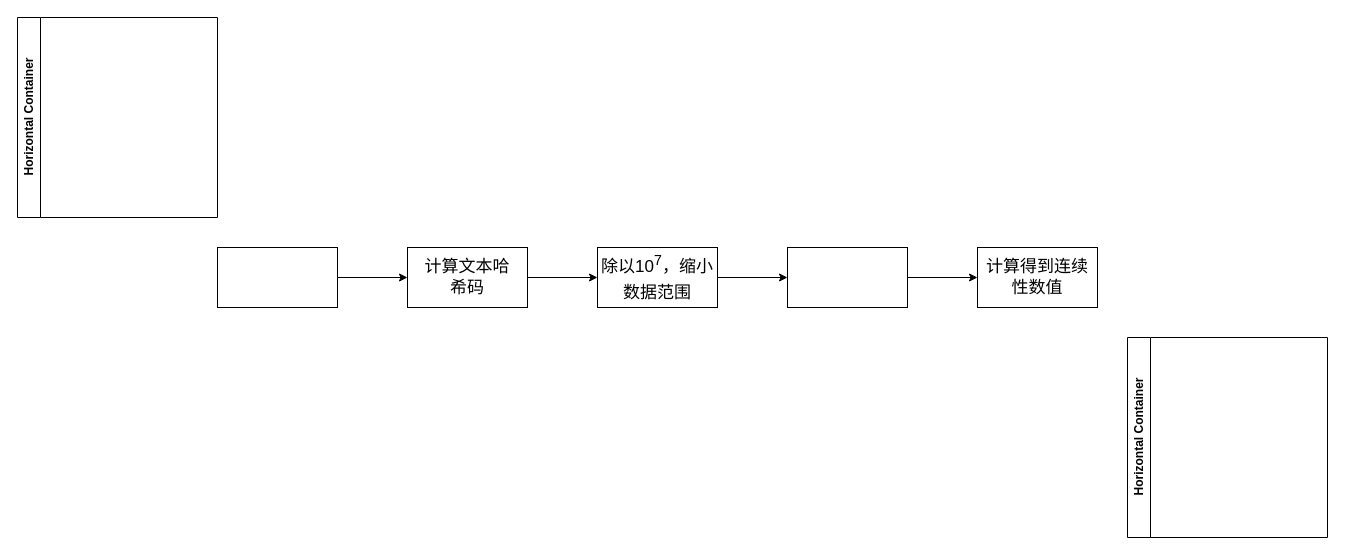
This 1345x555 diagram has some shape labels left out. Here are the shapes that lost their labels. From the top down, the centre of each, then its label:
At (x=277, y=277): "文本特征值".
At (x=847, y=277): "添加随机噪声".
